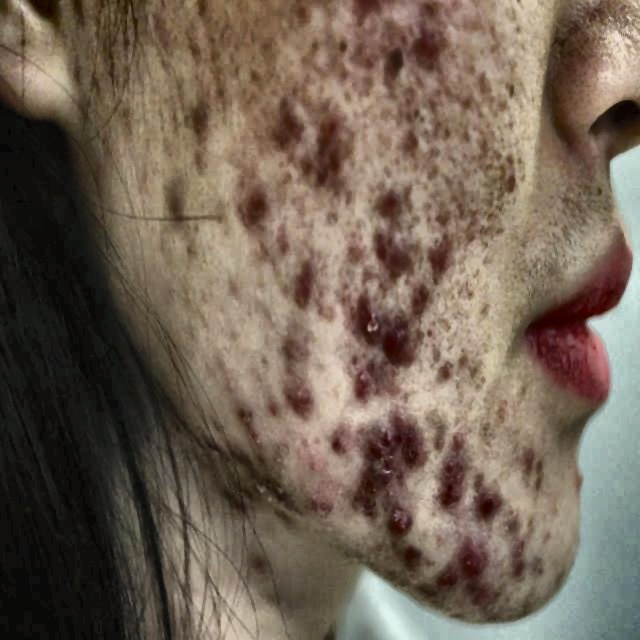nodule: (173, 91, 235, 164), (344, 5, 391, 68), (274, 100, 309, 164), (437, 452, 467, 508), (454, 538, 486, 590), (294, 431, 329, 478), (264, 382, 290, 444), (347, 483, 382, 529), (413, 232, 460, 266), (283, 325, 319, 369), (437, 420, 476, 459), (390, 402, 420, 451), (453, 346, 487, 389), (298, 268, 326, 320), (378, 230, 406, 282), (352, 415, 384, 460), (355, 292, 382, 342), (395, 118, 422, 167), (212, 351, 239, 398), (367, 458, 399, 497), (501, 548, 530, 591), (315, 107, 341, 154), (501, 506, 533, 544), (416, 30, 444, 73), (166, 182, 190, 231), (394, 532, 426, 568), (428, 362, 460, 398), (500, 143, 524, 191), (376, 362, 404, 402), (286, 374, 314, 413), (383, 316, 411, 354), (239, 183, 266, 220), (520, 444, 546, 482), (344, 230, 369, 269), (350, 363, 374, 403), (274, 160, 301, 195), (566, 459, 589, 499), (333, 272, 360, 306), (478, 478, 497, 526), (320, 206, 349, 236), (366, 185, 394, 216), (404, 441, 432, 472), (312, 483, 336, 518), (236, 397, 252, 442), (488, 395, 510, 427), (527, 549, 549, 581), (405, 284, 433, 309), (319, 296, 340, 329), (309, 162, 343, 182), (227, 273, 247, 305), (390, 504, 406, 542), (320, 423, 338, 455), (247, 428, 266, 453), (271, 229, 289, 252), (430, 570, 442, 592), (278, 410, 279, 412)
